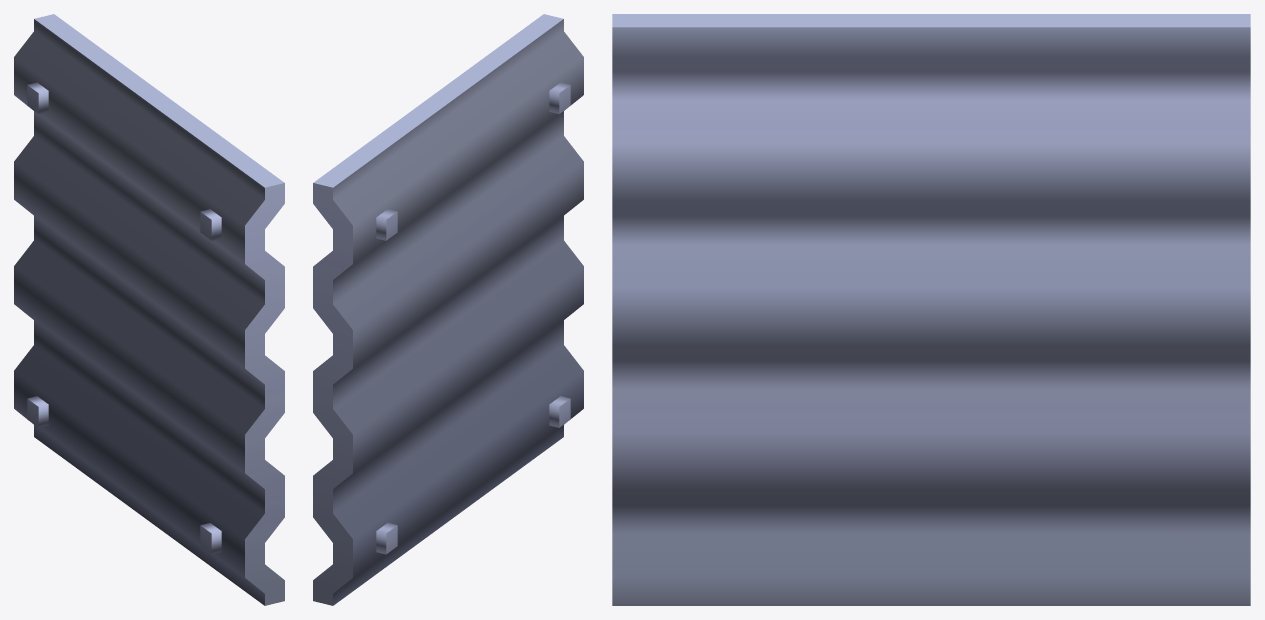
The model's file is kenney-building-plating-detailed.glb.
The picture shows the model from 3 angles, left to right: view 1: azimuth 30°, elevation 25°; view 2: azimuth 150°, elevation 25°; view 3: azimuth 270°, elevation 25°; orthographic projection. The views are drawn at different scales.
Visible parts, largest first — view 1: plating-detailed; view 2: plating-detailed; view 3: plating-detailed.
Part boxes in pixels (left/top/right/bottom): plating-detailed: left=14, top=14, right=284, bottom=605; plating-detailed: left=313, top=14, right=583, bottom=605; plating-detailed: left=612, top=14, right=1250, bottom=605.
Bounding box in the file's own units: 0.125 × 1 × 1.
Materials: 1 (1 with a texture image).
